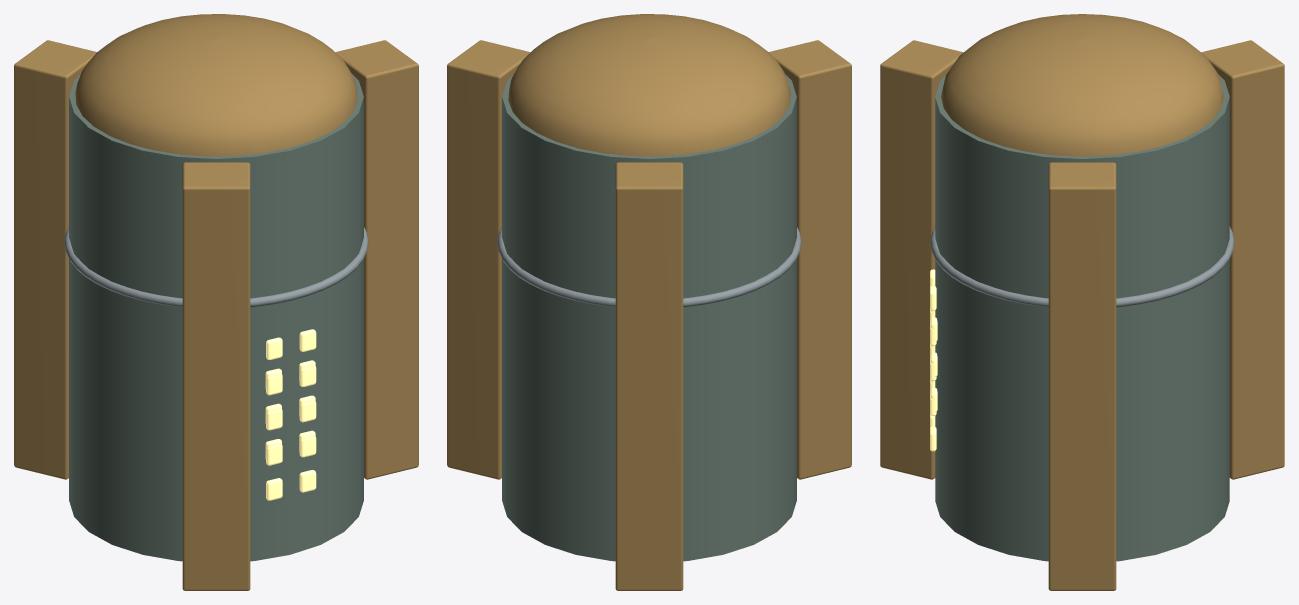
3 views of the same model, side by side, from view 1: azimuth 30°, elevation 25°; view 2: azimuth 150°, elevation 25°; view 3: azimuth 270°, elevation 25° (orthographic).
Parts seen in each view (by area): view 1: Cylindrical tower, Tower crown, Command vertical fin.002, Command vertical fin, Command vertical fin.001, Tower seam; view 2: Cylindrical tower, Tower crown, Command vertical fin.001, Command vertical fin, Command vertical fin.002, Tower seam; view 3: Cylindrical tower, Tower crown, Command vertical fin, Command vertical fin.001, Command vertical fin.002, Tower seam.
Part boxes in pixels (bbox=[...]): Cylindrical tower: bbox=[69, 74, 363, 561]; Tower crown: bbox=[75, 14, 357, 156]; Command vertical fin.002: bbox=[182, 162, 250, 590]; Command vertical fin: bbox=[335, 40, 418, 479]; Command vertical fin.001: bbox=[14, 40, 96, 479]; Tower seam: bbox=[64, 227, 368, 307]; Cylindrical tower: bbox=[502, 74, 796, 561]; Tower crown: bbox=[508, 14, 790, 156]; Command vertical fin.001: bbox=[615, 162, 683, 590]; Command vertical fin: bbox=[447, 40, 530, 479]; Command vertical fin.002: bbox=[769, 40, 851, 479]; Tower seam: bbox=[497, 227, 801, 307]; Cylindrical tower: bbox=[935, 75, 1229, 561]; Tower crown: bbox=[941, 14, 1223, 156]; Command vertical fin: bbox=[1048, 162, 1116, 590]; Command vertical fin.001: bbox=[1201, 40, 1284, 479]; Command vertical fin.002: bbox=[880, 40, 963, 479]; Tower seam: bbox=[930, 226, 1234, 307].
Size of the model in its own units: 1.89 by 2.63 by 2.09.
